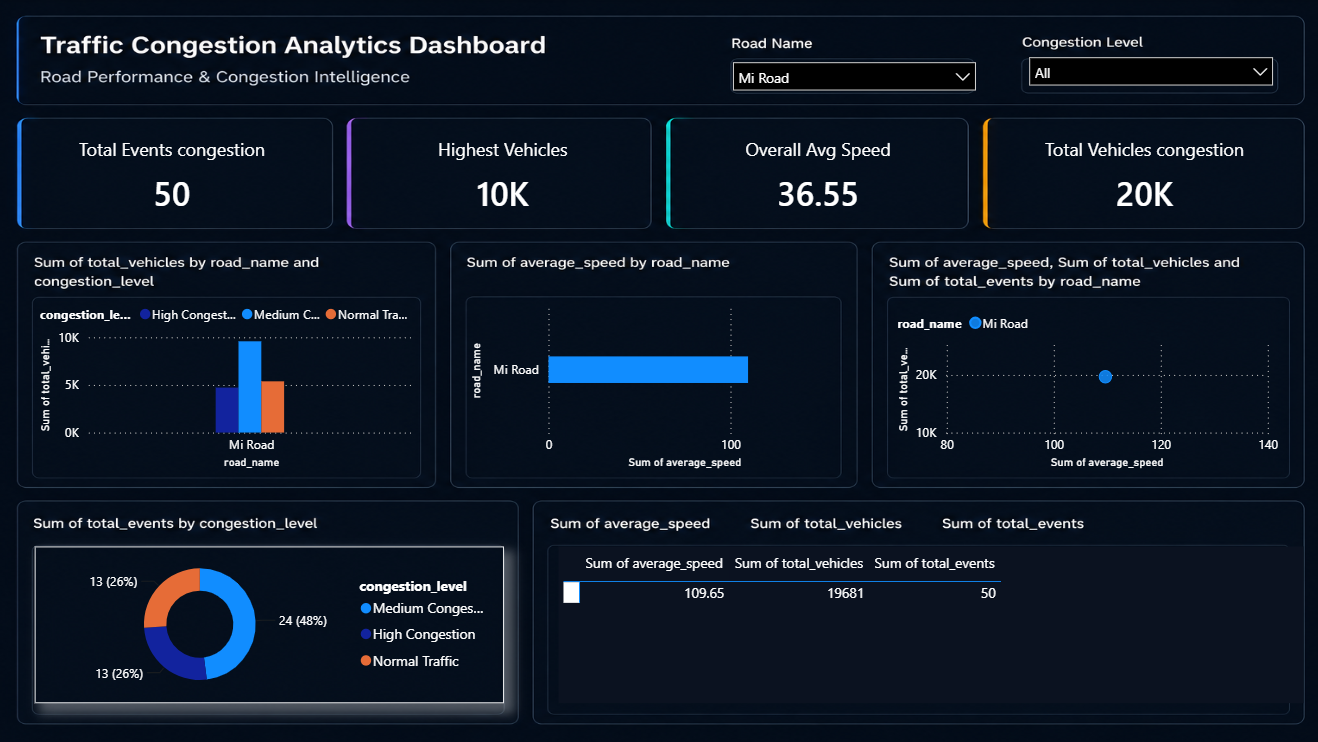

What the dashboard file says about the page in this screenshot:
{"tool":"powerbi","page":{"name":"Congestion Analysis Dashboard","canvas":[1280,720],"ordinal":1},"visuals":[{"type":"slicer","fields":{"Values":["gold_congestion_analysis.road_name"]},"box":[700.9,50.7,254.6,43.4],"z":1000},{"type":"slicer","fields":{"Values":["gold_congestion_analysis.congestion_level"]},"box":[986.9,45.8,255.8,53.1],"z":2000},{"type":"cardVisual","fields":{"Data":["Table.Total Events congestion"]},"box":[48.3,121.9,243.8,97.5],"z":3000},{"type":"cardVisual","fields":{"Data":["Table.Highest Vehicles"]},"box":[348.7,121.9,281.1,97.7],"z":4000},{"type":"cardVisual","fields":{"Data":["Table.Overall Avg Speed"]},"box":[651.5,121.9,284.7,97.7],"z":5000},{"type":"cardVisual","fields":{"Data":["Table.Total Vehicles congestion"]},"box":[955.5,121.9,306.4,97.7],"z":6000},{"type":"clusteredColumnChart","fields":{"Category":["gold_congestion_analysis.road_name"],"Series":["gold_congestion_analysis.congestion_level"],"Y":["Sum(gold_congestion_analysis.total_vehicles)"]},"box":[37.4,284.7,371.6,173.7],"z":7000},{"type":"clusteredBarChart","fields":{"Category":["gold_congestion_analysis.road_name"],"Y":["Sum(gold_congestion_analysis.average_speed)"]},"box":[453.6,284.7,358.3,173.7],"z":8000},{"type":"scatterChart","fields":{"X":["Sum(gold_congestion_analysis.average_speed)"],"Y":["Sum(gold_congestion_analysis.total_vehicles)"],"Size":["Sum(gold_congestion_analysis.total_events)"],"Series":["gold_congestion_analysis.road_name"]},"box":[865,293.2,377.6,165.3],"z":9000},{"type":"donutChart","fields":{"Category":["gold_congestion_analysis.congestion_level"],"Y":["Sum(gold_congestion_analysis.total_events)"]},"box":[37.4,528.4,452.4,150.8],"z":10000},{"type":"pivotTable","fields":{"Values":["Sum(gold_congestion_analysis.average_speed)","Sum(gold_congestion_analysis.total_vehicles)","Sum(gold_congestion_analysis.total_events)"]},"box":[542.9,528.4,719,150.8],"z":11000}]}

Visuals, with their boxes in screenshot pixels (x1, y1, x2, y2), scaled from the page's 1280x720 canvas onto the 1318x742 screenshot:
slicer - gold_congestion_analysis.road_name: x1=722, y1=52, x2=984, y2=97
slicer - gold_congestion_analysis.congestion_level: x1=1016, y1=47, x2=1280, y2=102
cardVisual - Table.Total Events congestion: x1=50, y1=126, x2=301, y2=226
cardVisual - Table.Highest Vehicles: x1=359, y1=126, x2=648, y2=226
cardVisual - Table.Overall Avg Speed: x1=671, y1=126, x2=964, y2=226
cardVisual - Table.Total Vehicles congestion: x1=984, y1=126, x2=1299, y2=226
clusteredColumnChart - gold_congestion_analysis.road_name x gold_congestion_analysis.congestion_level: x1=39, y1=293, x2=421, y2=472
clusteredBarChart - gold_congestion_analysis.road_name x Sum(gold_congestion_analysis.average_speed): x1=467, y1=293, x2=836, y2=472
scatterChart - Sum(gold_congestion_analysis.average_speed) x Sum(gold_congestion_analysis.total_vehicles): x1=891, y1=302, x2=1279, y2=473
donutChart - gold_congestion_analysis.congestion_level x Sum(gold_congestion_analysis.total_events): x1=39, y1=545, x2=504, y2=700
pivotTable - Sum(gold_congestion_analysis.average_speed) x Sum(gold_congestion_analysis.total_vehicles): x1=559, y1=545, x2=1299, y2=700
